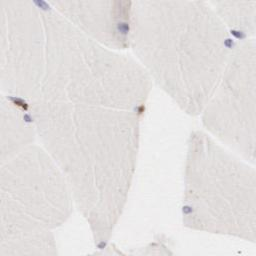nucleus: (34, 1, 52, 12), (118, 22, 129, 33), (231, 29, 243, 39), (8, 96, 24, 102), (181, 206, 194, 213), (224, 38, 234, 47), (97, 242, 106, 248), (24, 114, 31, 121), (135, 107, 138, 110)
positive_cell: (7, 96, 28, 109), (135, 105, 145, 112)
